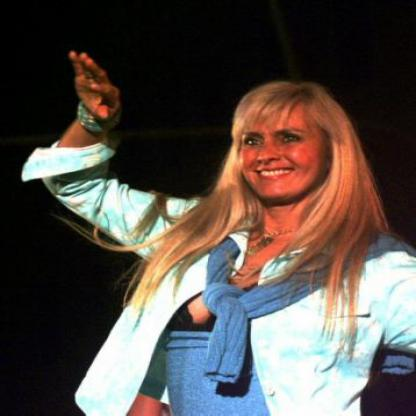face: (236, 87, 333, 201)
